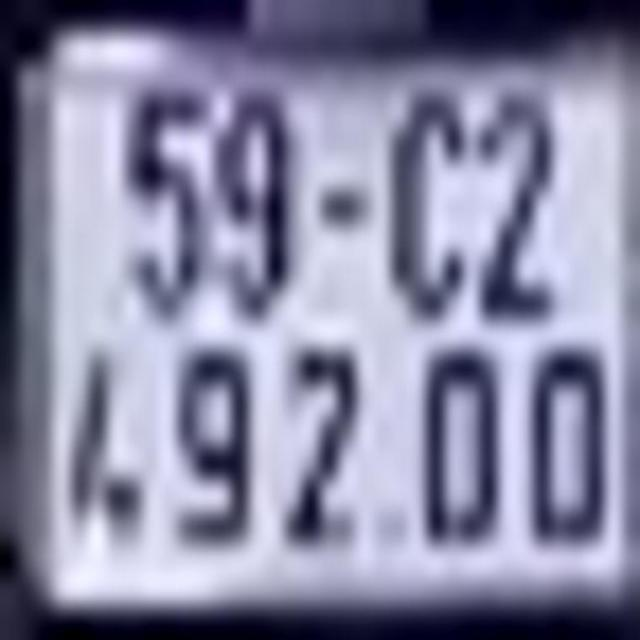0: (528, 338, 610, 552), (422, 348, 501, 550)
2: (476, 78, 560, 316), (285, 354, 363, 551)
4: (69, 362, 144, 559)
5: (124, 85, 203, 312)
9: (216, 85, 290, 318), (172, 340, 250, 542)
C: (380, 70, 463, 316)
